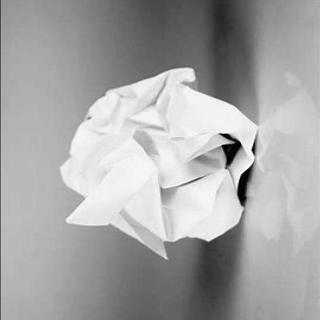Anorganik: (52, 64, 258, 255)
